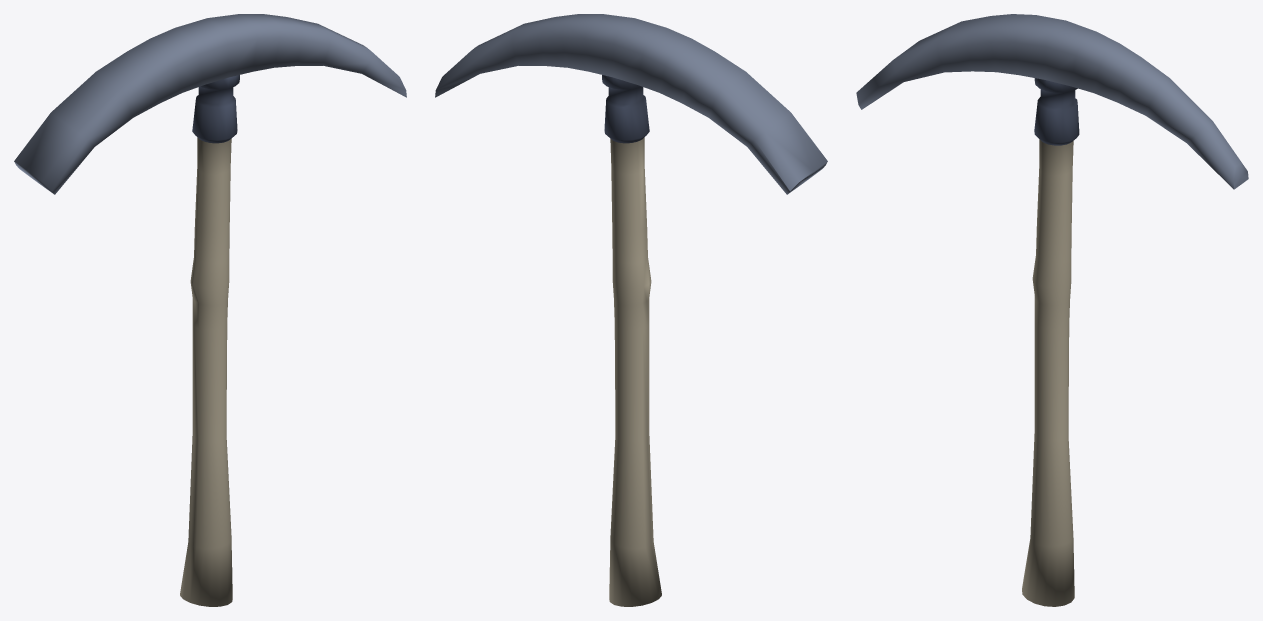
The model's file is pq_pioche.glb.
The picture shows the model from 3 angles, left to right: view 1: azimuth 30°, elevation 25°; view 2: azimuth 150°, elevation 25°; view 3: azimuth 330°, elevation 25°; orthographic projection.
Visible parts, largest first — view 1: Pickaxe_Bronze; view 2: Pickaxe_Bronze; view 3: Pickaxe_Bronze.
Boxes of the visible parts, x1=… form: Pickaxe_Bronze: x1=14, y1=14, x2=406, y2=606; Pickaxe_Bronze: x1=435, y1=14, x2=827, y2=606; Pickaxe_Bronze: x1=856, y1=14, x2=1248, y2=606.
Bounding box in the file's own units: 0.6108 × 0.9 × 0.1019.
